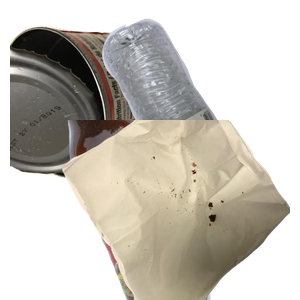glass: (65, 120, 300, 300)
metal: (10, 23, 193, 194)
plastic: (100, 16, 300, 196)
trash: (60, 120, 300, 300)
